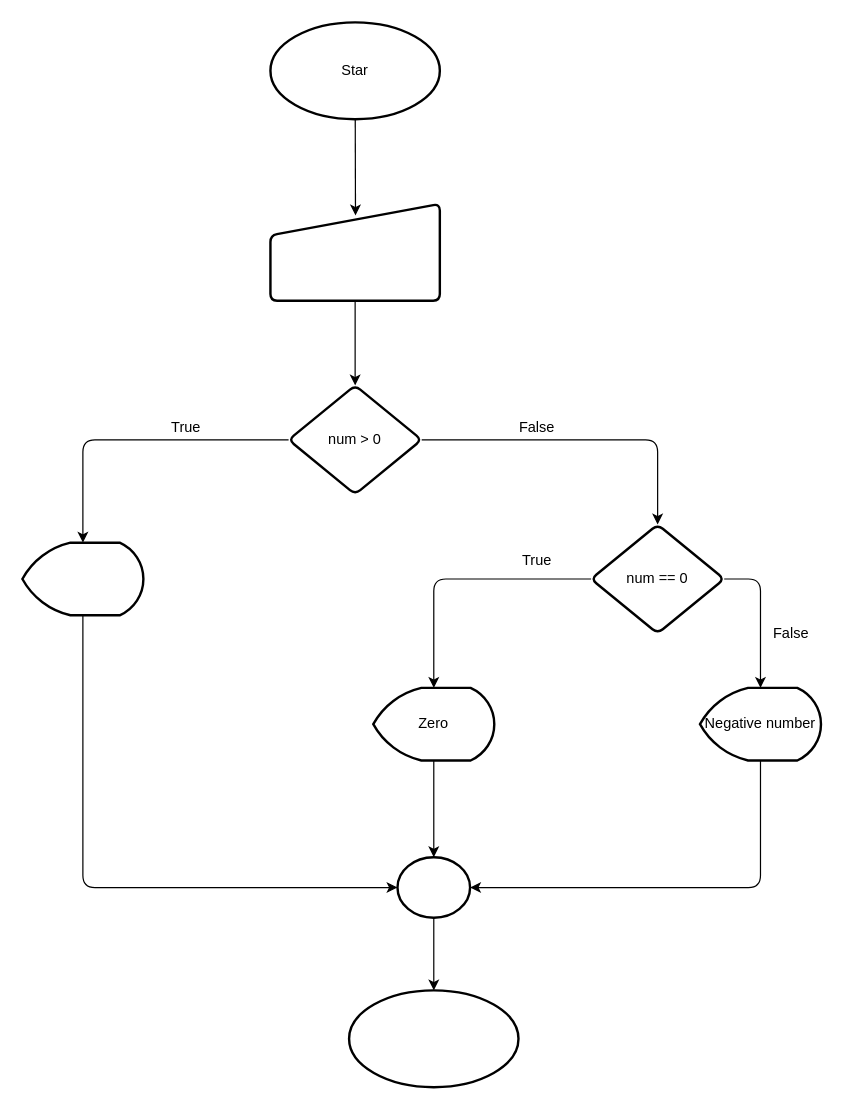
This 842x1108 diagram has some shape labels left out. The shapes that lost their labels are listed below. From the top down, each one's centre as x and y in pixels, then its label:
At point 354,251: "num".
At point 82,578: "positive number".
At point 433,1038: "End".
